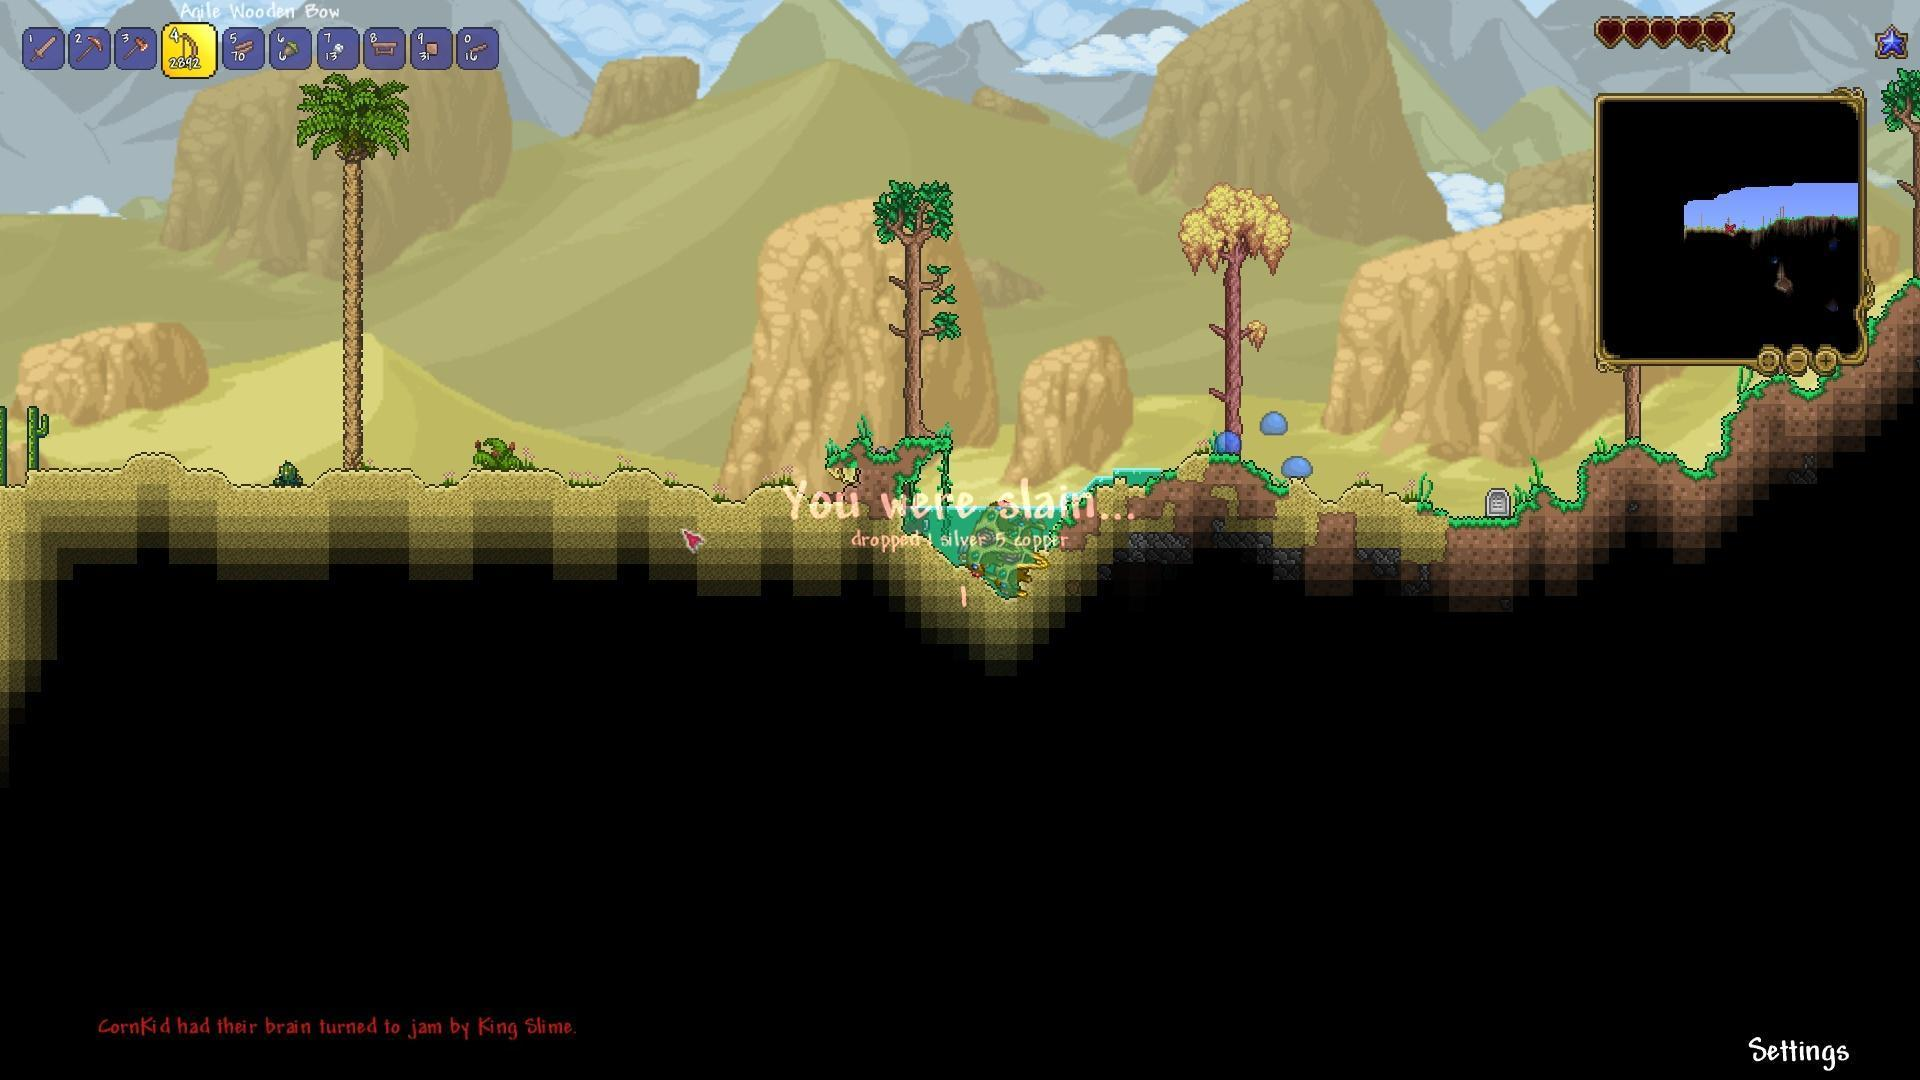slime: (1211, 429, 1246, 455), (1258, 409, 1292, 435), (1282, 454, 1313, 480)
wood: (228, 33, 260, 63)
workbench: (367, 34, 404, 59)
